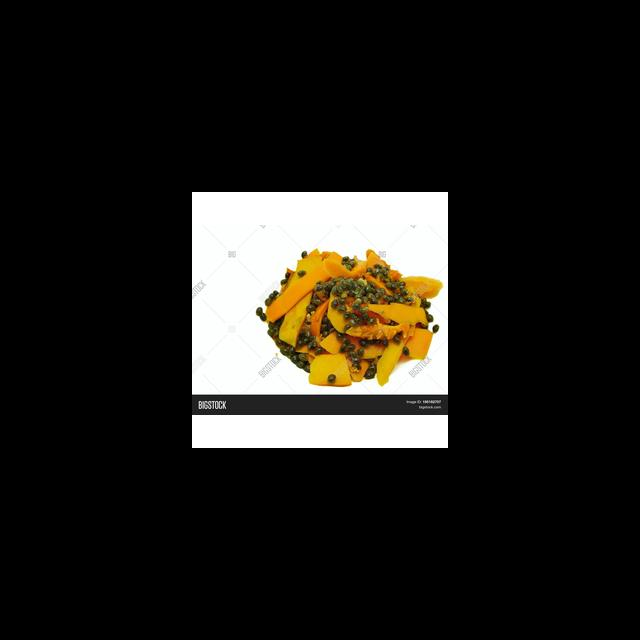food_waste: (267, 247, 444, 388)
